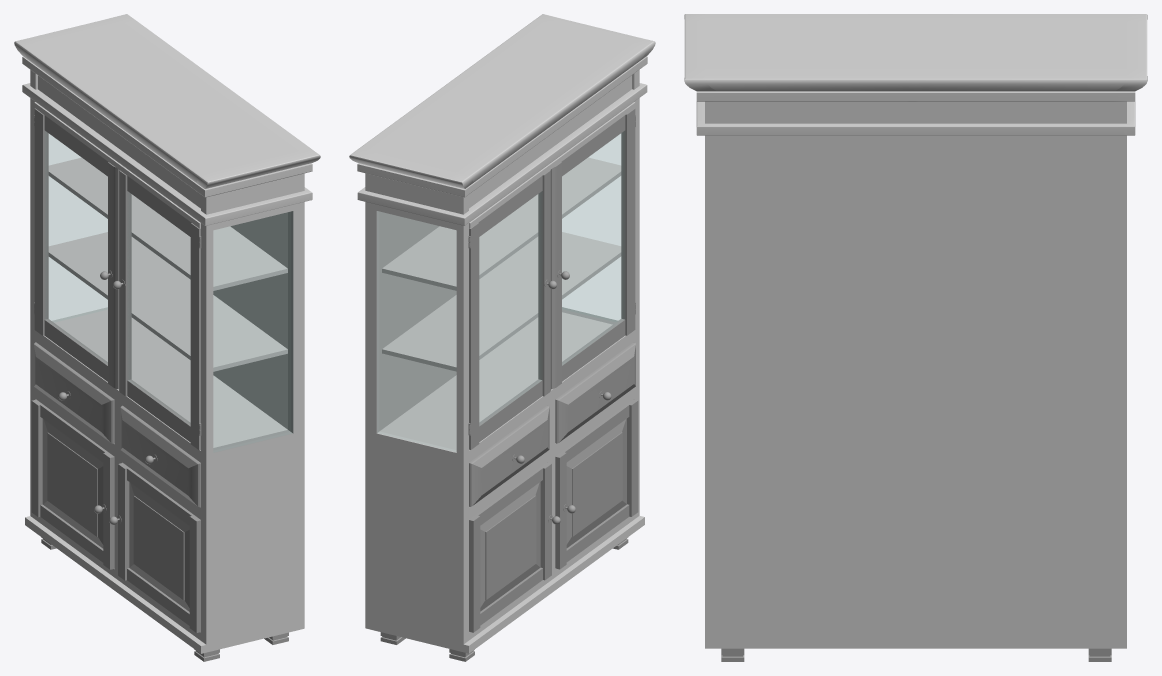
The model's file is Vitrina.fbx.
3 renders of one model, left to right at view 1: azimuth 30°, elevation 25°; view 2: azimuth 150°, elevation 25°; view 3: azimuth 270°, elevation 25°, orthographic. The views are drawn at different scales.
Parts seen in each view (by area): view 1: polySurface40, polySurface20, polySurface15, polySurface23, polySurface24, pCube3, pCube4; view 2: polySurface40, polySurface15, polySurface20, polySurface24, polySurface23, pCube4, pCube3; view 3: polySurface40.
Boxes of the visible parts, x1,y1,x2,y2 form: polySurface40: [14, 14, 320, 661]; polySurface20: [34, 108, 118, 389]; polySurface15: [113, 170, 201, 450]; polySurface23: [31, 399, 114, 569]; polySurface24: [109, 463, 200, 632]; pCube3: [34, 342, 114, 443]; pCube4: [120, 406, 200, 507]; polySurface40: [349, 14, 655, 661]; polySurface15: [551, 108, 635, 389]; polySurface20: [468, 170, 556, 449]; polySurface24: [555, 399, 638, 569]; polySurface23: [469, 462, 560, 632]; pCube4: [555, 342, 635, 443]; pCube3: [469, 405, 549, 506]; polySurface40: [684, 14, 1147, 661].
Bounding box in the file's own units: 63.57 × 246 × 174.
